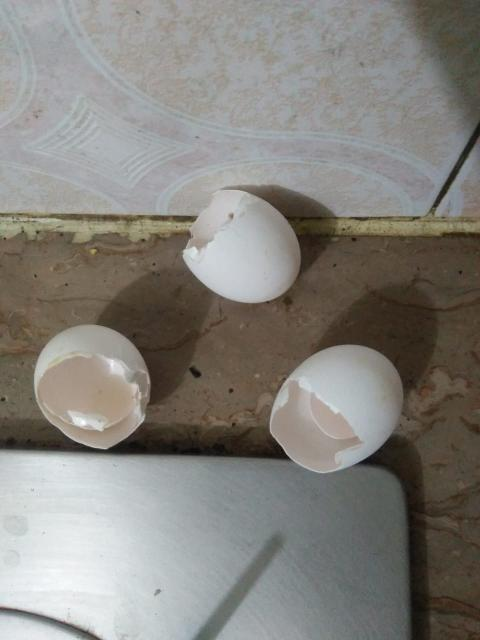Roto: (269, 342, 404, 473), (33, 323, 151, 450), (182, 188, 302, 304)
